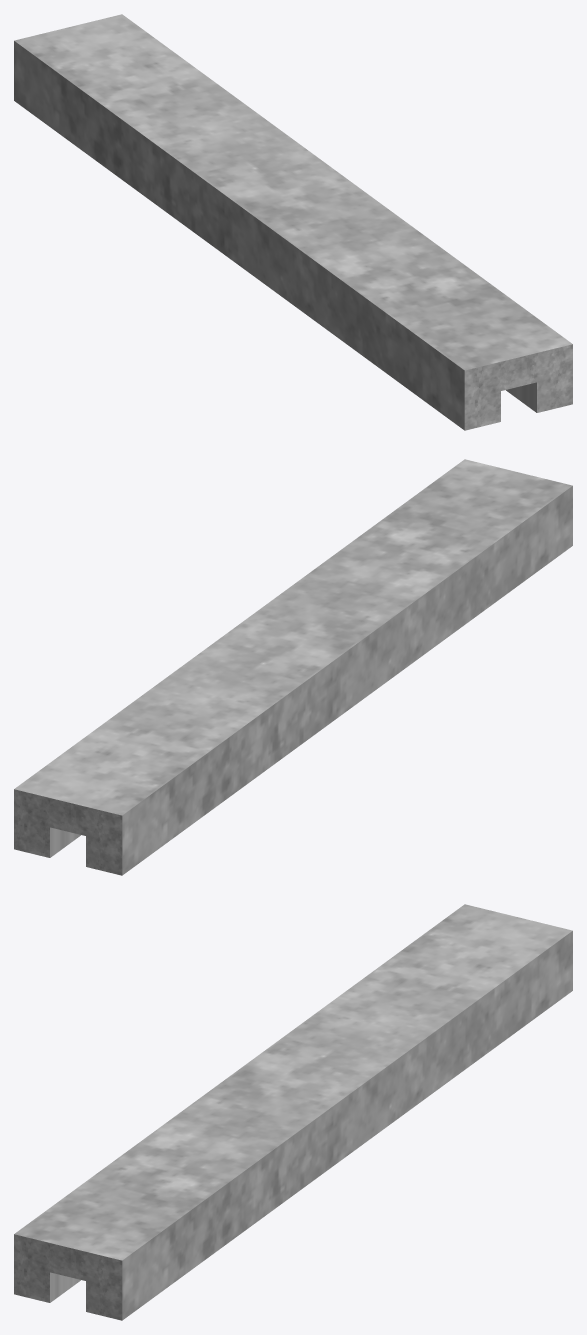
File: PIG_ceiling_rail_straight.glb
3 renders of one model, top to bottom at view 1: azimuth 30°, elevation 25°; view 2: azimuth 150°, elevation 25°; view 3: azimuth 330°, elevation 25°, orthographic.
Visible parts, largest first — view 1: Stright; view 2: Stright; view 3: Stright.
Boxes of the visible parts, <box> form: Stright: <box>14,14,572,430</box>; Stright: <box>14,459,572,875</box>; Stright: <box>14,904,572,1320</box>.
Size of the model in its own units: 1.03 by 0.5487 by 7.45.
1 material, 1 textured.
